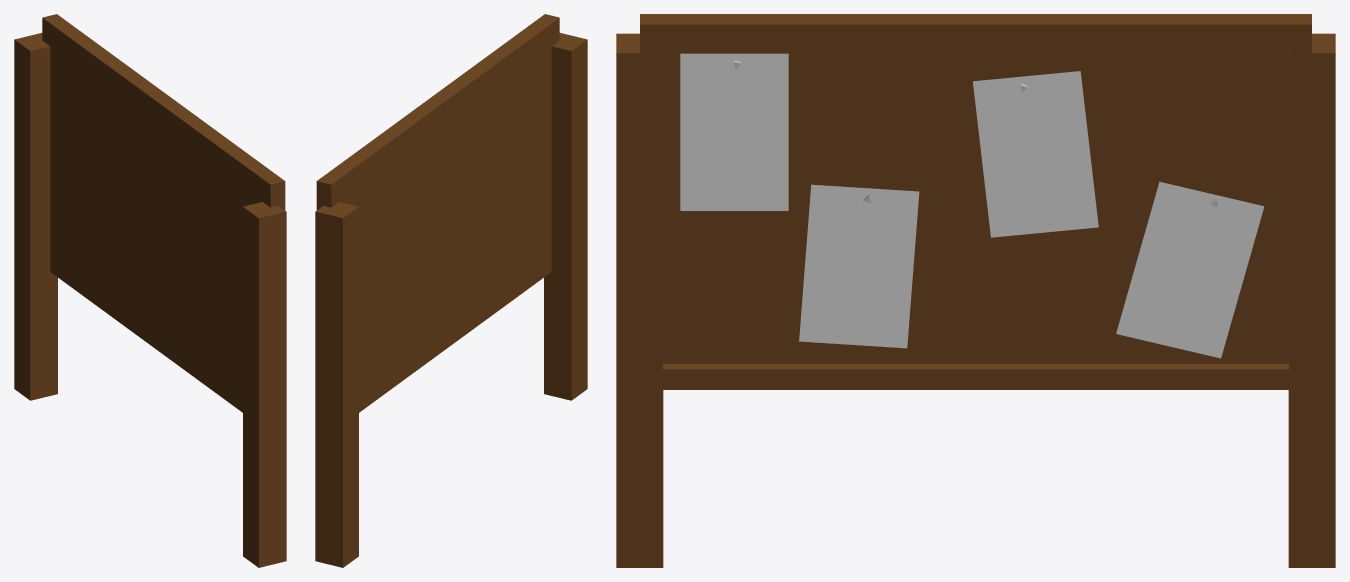
The model's file is wanted board.fbx.
3 views of the same model, side by side, from view 1: azimuth 30°, elevation 25°; view 2: azimuth 150°, elevation 25°; view 3: azimuth 270°, elevation 25° (orthographic). The views are drawn at different scales.
Parts seen in each view (by area): view 1: Cube; view 2: Cube; view 3: Cube.
Part boxes in pixels (<box>): Cube: <box>14,14,286,567</box>; Cube: <box>315,14,587,567</box>; Cube: <box>616,14,1335,567</box>.
Bounding box in the file's own units: 17.42 × 180 × 214.
